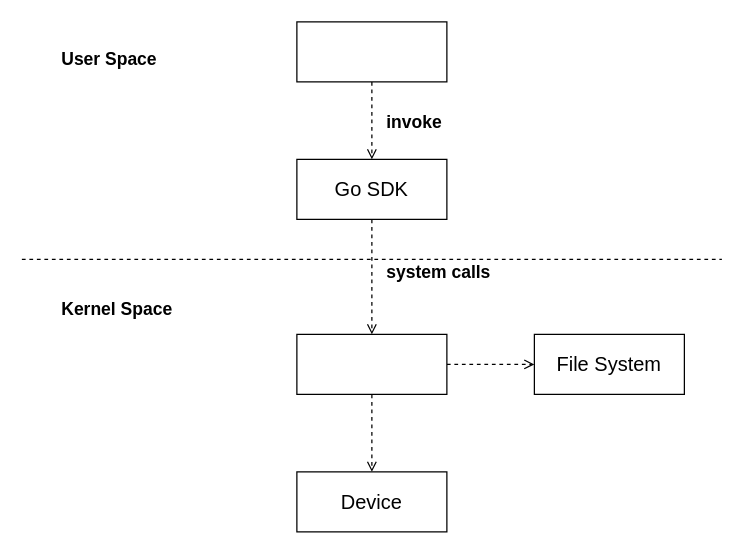
This 745x554 diagram has some shape labels left out. The centre of each missing label's shape, as x and y in pixels:
Application: the point at 371,51
Network: the point at 371,363
